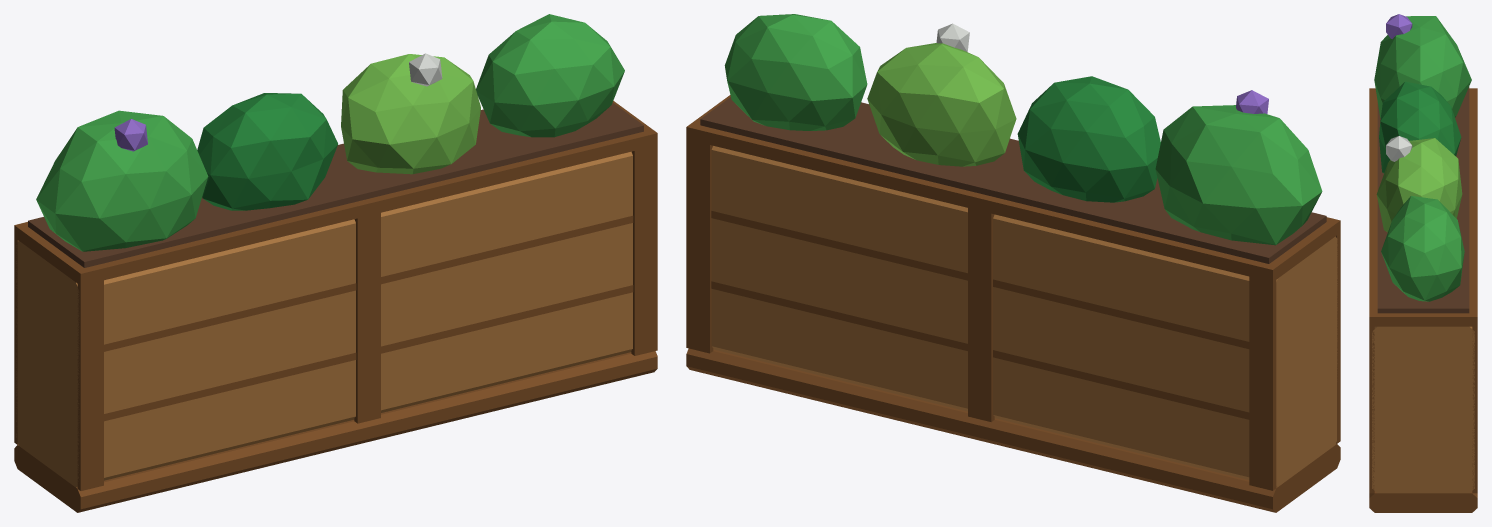
Rendered from greenhouse-wall1.glb.
3 renders of one model, left to right at view 1: azimuth 30°, elevation 25°; view 2: azimuth 150°, elevation 25°; view 3: azimuth 270°, elevation 25°, orthographic. The views are drawn at different scales.
Parts seen in each view (by area): view 1: greenhouse-wall1; view 2: greenhouse-wall1; view 3: greenhouse-wall1.
Boxes of the visible parts, box(x1,y1,x2,y2) form: greenhouse-wall1: box(14, 14, 657, 512); greenhouse-wall1: box(686, 14, 1340, 512); greenhouse-wall1: box(1369, 14, 1477, 512).
Bounding box in the file's own units: 2.01 × 1.21 × 0.4.
